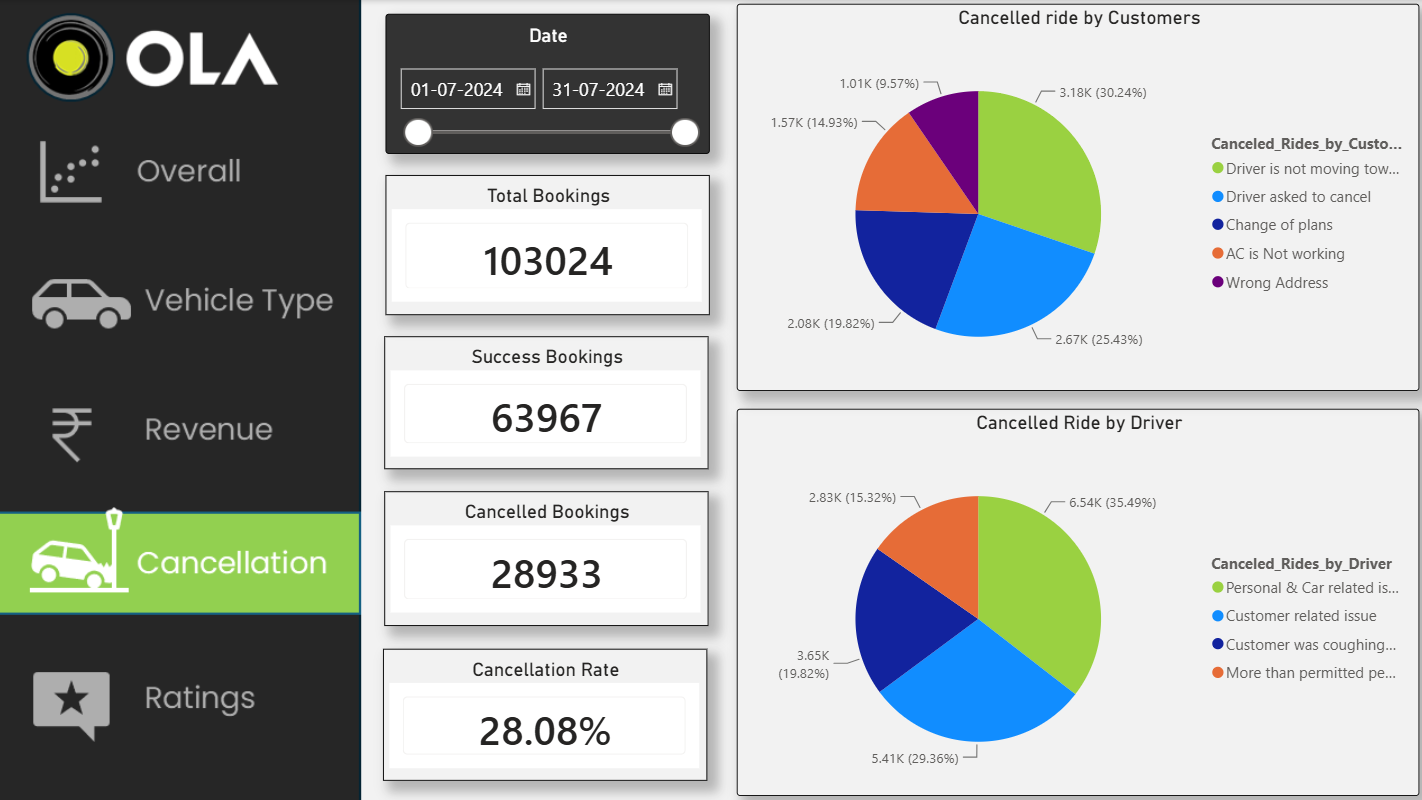

Layout of this report page (visuals, bound fields, positions):
{"tool":"powerbi","page":{"name":"Cancellation","canvas":[1280,720],"ordinal":3},"visuals":[{"type":"actionButton","box":[7.8,110,323.3,92.2],"z":0},{"type":"actionButton","box":[0,218.9,323.3,92.2],"z":1000},{"type":"actionButton","box":[1.1,335.6,323.3,92.2],"z":2000},{"type":"actionButton","box":[0,577.8,323.3,92.2],"z":3000},{"type":"pieChart","title":"Cancelled Ride by Driver","fields":{"Category":["July.Canceled_Rides_by_Driver"],"Y":["CountNonNull(July.Canceled_Rides_by_Customer)"]},"box":[657.5,363.8,608.8,345],"z":3001},{"type":"pieChart","title":"Cancelled ride by Customers","fields":{"Category":["July.Canceled_Rides_by_Customer"],"Y":["CountNonNull(July.Canceled_Rides_by_Customer)"]},"box":[657.5,3.8,608.8,345],"z":3002},{"type":"slicer","title":"Date","fields":{"Values":["July.Date"]},"box":[345,12.5,288.8,125],"z":3003},{"type":"cardVisual","title":"Total Bookings","fields":{"Data":["CountNonNull(July.Booking_ID)"]},"box":[345,156.2,288.8,125],"z":3004},{"type":"cardVisual","title":"Success Bookings","fields":{"Data":["CountNonNull(July.Booking_ID)"]},"box":[343.8,300,288.8,118.8],"z":3005},{"type":"cardVisual","title":"Cancelled Bookings","fields":{"Data":["CountNonNull(July.Booking_ID)"]},"box":[343.8,437.5,288.8,120],"z":3006},{"type":"cardVisual","title":"Cancellation Rate","fields":{"Data":["July.Cancelled Percentage"]},"box":[342.5,577.5,288.8,117.5],"z":3007}]}

Visuals, with their boxes in screenshot pixels (x1, y1, x2, y2), scaled from the page's 1280x720 canvas onto the 1422x800 screenshot:
actionButton: <region>9, 122, 368, 225</region>
actionButton: <region>0, 243, 359, 346</region>
actionButton: <region>1, 373, 360, 475</region>
actionButton: <region>0, 642, 359, 744</region>
"Cancelled Ride by Driver" pieChart: <region>730, 404, 1407, 788</region>
"Cancelled ride by Customers" pieChart: <region>730, 4, 1407, 388</region>
"Date" slicer: <region>383, 14, 704, 153</region>
"Total Bookings" cardVisual: <region>383, 174, 704, 312</region>
"Success Bookings" cardVisual: <region>382, 333, 703, 465</region>
"Cancelled Bookings" cardVisual: <region>382, 486, 703, 619</region>
"Cancellation Rate" cardVisual: <region>380, 642, 701, 772</region>
